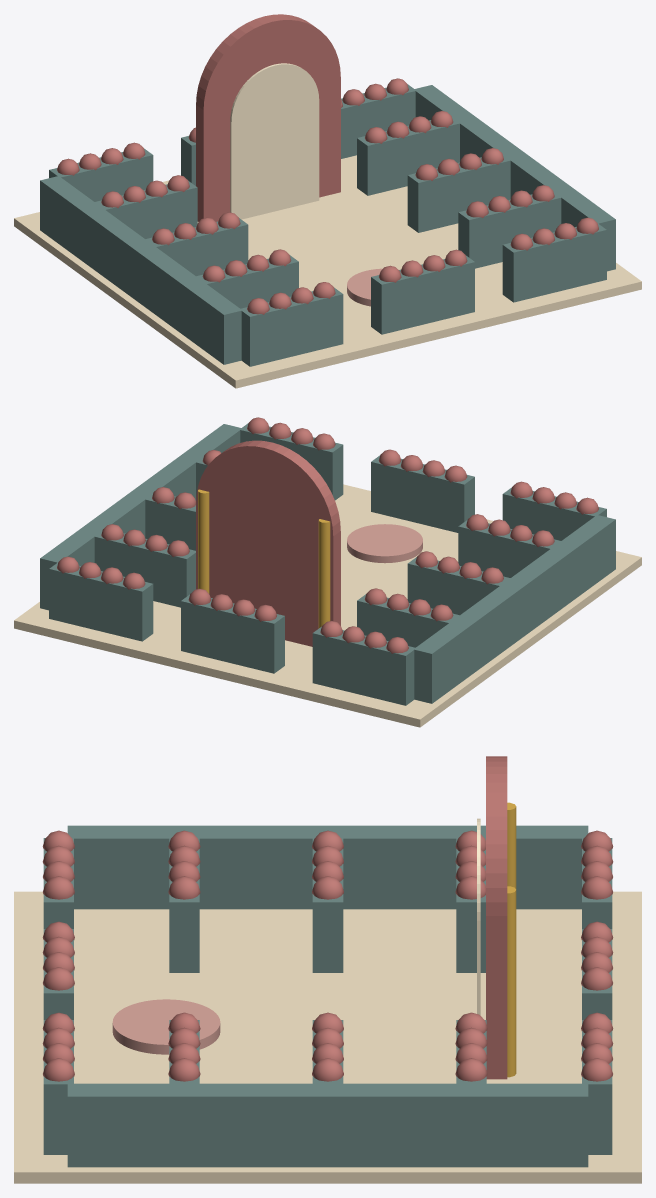
Rendered from maze.glb.
3 views of the same model, one above another, from view 1: azimuth 30°, elevation 25°; view 2: azimuth 150°, elevation 25°; view 3: azimuth 270°, elevation 25° (orthographic). The views are drawn at different scales.
Size of the model in its own units: 3.7 by 1.7 by 3.5.
